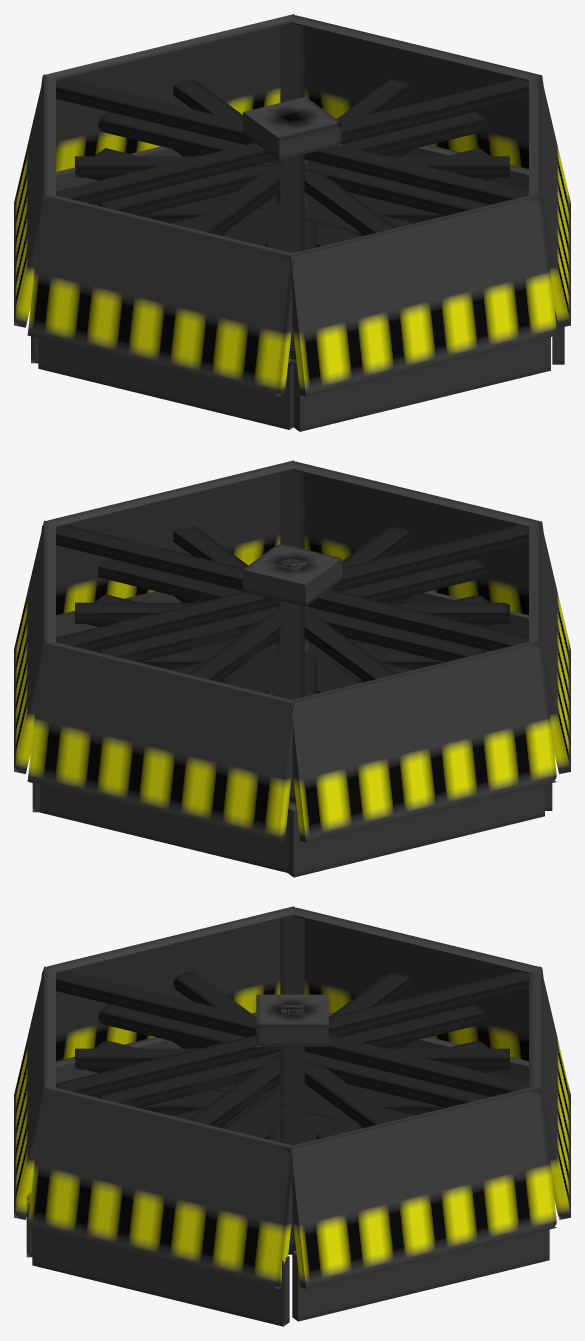
Rendered from electric_turbine_large.obj.
3 renders of one model, top to bottom at view 1: azimuth 30°, elevation 25°; view 2: azimuth 150°, elevation 25°; view 3: azimuth 270°, elevation 25°, orthographic.
Parts seen in each view (by area): view 1: Shape3, Shape2, Shape7, Shape5, Shape8, Shape15, Shape16, Shape10, Blade6, Blade4, Shape4, Shape6 (+13 smaller); view 2: Shape7, Shape6, Shape4, Shape2, Shape14, Shape16, Shape9, Shape13, Blade4, Blade2, Shape3, Shape5 (+13 smaller); view 3: Shape5, Shape4, Shape3, Shape6, Shape11, Shape14, Shape15, Shape12, Blade2, Blade6, Shape7, Shape2 (+13 smaller).
Boxes of the visible parts, <box> form: Shape3: <box>27,195,294,396</box>; Shape2: <box>289,195,556,396</box>; Shape7: <box>41,14,294,171</box>; Shape5: <box>292,15,543,168</box>; Shape8: <box>293,337,550,431</box>; Shape15: <box>56,79,528,204</box>; Shape16: <box>56,79,528,204</box>; Shape10: <box>38,338,295,429</box>; Blade6: <box>98,111,486,215</box>; Blade4: <box>98,111,486,215</box>; Shape4: <box>529,76,570,327</box>; Shape6: <box>14,74,55,327</box>; Shape7: <box>27,641,295,842</box>; Shape6: <box>289,642,556,842</box>; Shape4: <box>41,460,294,615</box>; Shape2: <box>292,461,543,615</box>; Shape14: <box>56,525,528,650</box>; Shape16: <box>56,525,528,650</box>; Shape9: <box>287,785,544,877</box>; Shape13: <box>40,785,296,872</box>; Blade4: <box>98,558,485,661</box>; Blade2: <box>98,559,486,661</box>; Shape3: <box>529,522,570,773</box>; Shape5: <box>14,520,55,773</box>; Shape5: <box>289,1087,556,1288</box>; Shape4: <box>27,1087,294,1288</box>; Shape3: <box>41,906,294,1061</box>; Shape6: <box>292,907,543,1060</box>; Shape11: <box>32,1229,289,1326</box>; Shape14: <box>56,971,528,1096</box>; Shape15: <box>56,971,528,1096</box>; Shape12: <box>292,1229,549,1321</box>; Blade2: <box>98,1004,486,1107</box>; Blade6: <box>98,1004,486,1107</box>; Shape7: <box>529,966,570,1219</box>; Shape2: <box>14,966,55,1219</box>.
Bounding box in the file's own units: 3.24 × 1.06 × 2.88.
